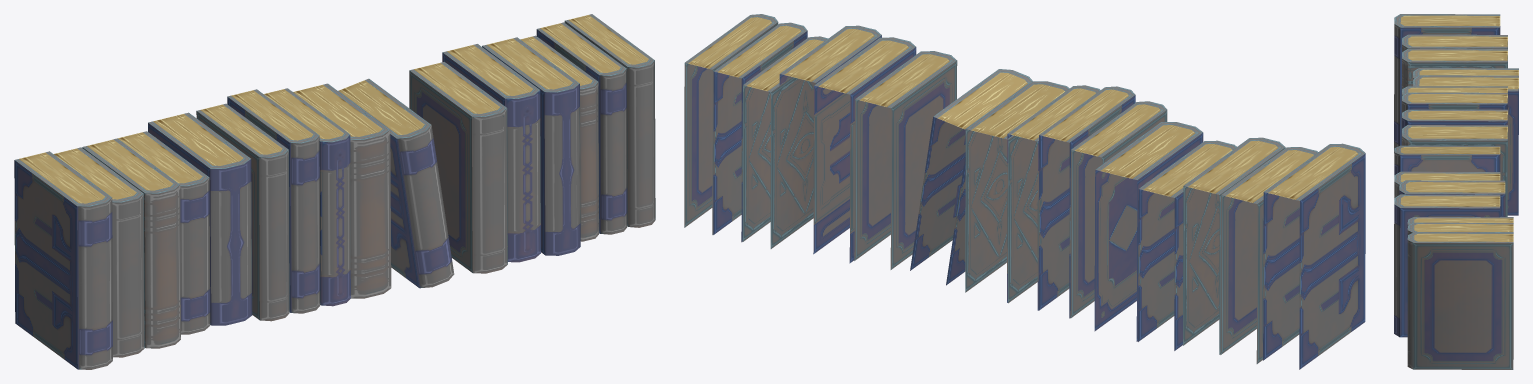
The model's file is BookGroup_Medium_1.fbx.
3 views of the same model, side by side, from view 1: azimuth 30°, elevation 25°; view 2: azimuth 150°, elevation 25°; view 3: azimuth 270°, elevation 25° (orthographic). The views are drawn at different scales.
Parts seen in each view (by area): view 1: BookGroup_Medium_1; view 2: BookGroup_Medium_1; view 3: BookGroup_Medium_1.
Part boxes in pixels (<box>): BookGroup_Medium_1: <box>14,14,655,369</box>; BookGroup_Medium_1: <box>684,14,1365,369</box>; BookGroup_Medium_1: <box>1394,14,1518,369</box>.
Size of the model in its own units: 106 by 29.83 by 24.75.
